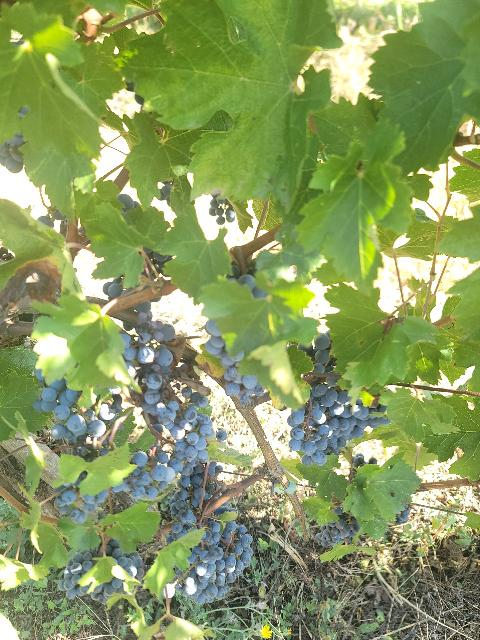grapes: (136, 345, 215, 475), (288, 384, 390, 465), (174, 506, 252, 604)
